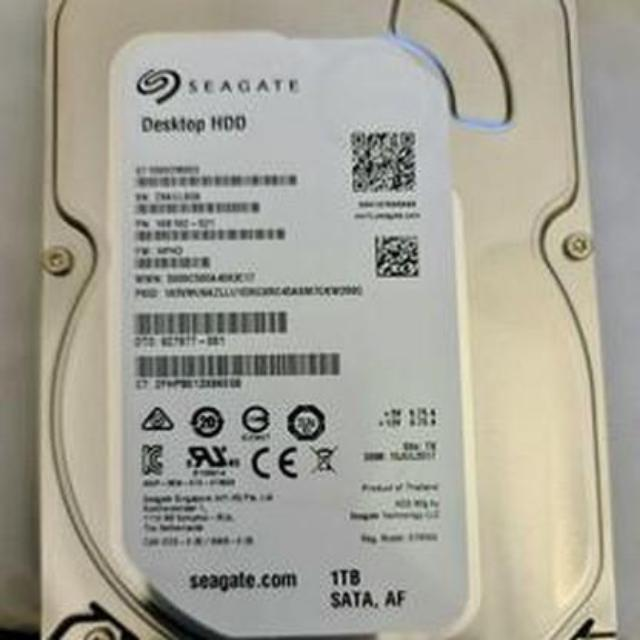DISK: (36, 0, 619, 640)
